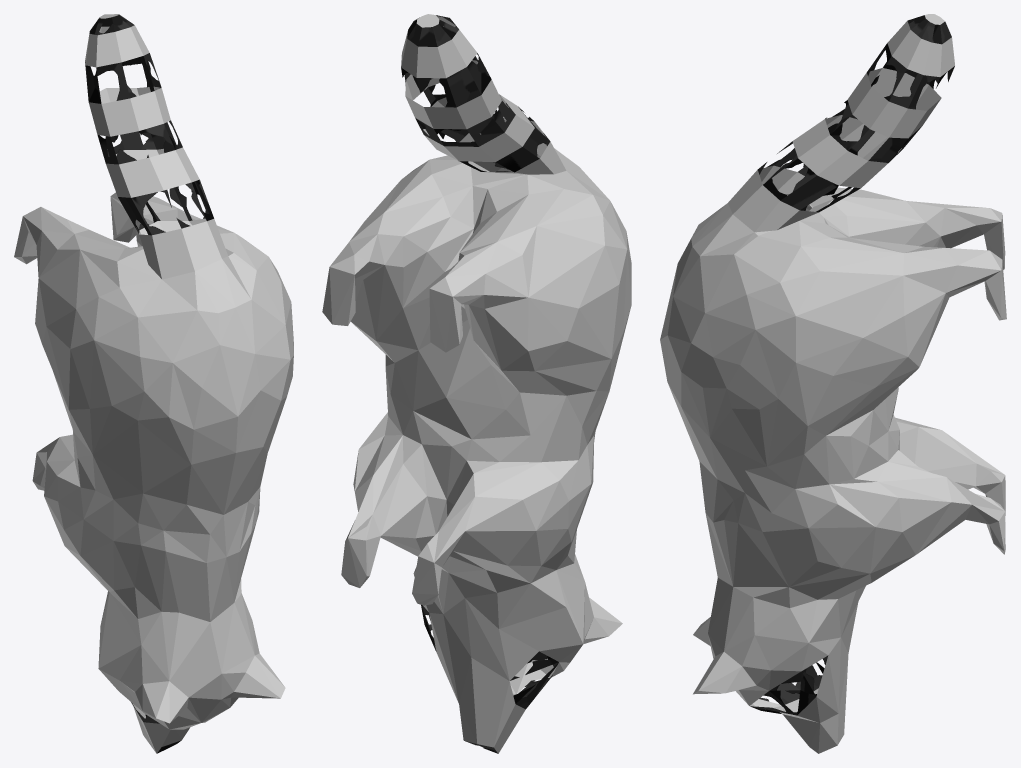
File: guaxim 1.fbx
3 views of the same model, side by side, from view 1: azimuth 30°, elevation 25°; view 2: azimuth 150°, elevation 25°; view 3: azimuth 270°, elevation 25° (orthographic). The views are drawn at different scales.
Parts seen in each view (by area): view 1: Raccoon_t.003_Raccoon_t.003_Raccoon; view 2: Raccoon_t.003_Raccoon_t.003_Raccoon; view 3: Raccoon_t.003_Raccoon_t.003_Raccoon.
Part boxes in pixels (<box>): Raccoon_t.003_Raccoon_t.003_Raccoon: <box>14,14,293,753</box>; Raccoon_t.003_Raccoon_t.003_Raccoon: <box>322,14,631,753</box>; Raccoon_t.003_Raccoon_t.003_Raccoon: <box>660,14,1006,753</box>.
Bounding box in the file's own units: 368 × 1153 × 492.
